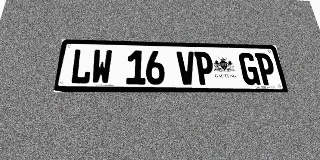1: (126, 50, 145, 85)
6: (146, 50, 165, 85)
G: (238, 53, 261, 85)
L: (69, 49, 93, 84)
P: (254, 53, 278, 85), (194, 52, 215, 85)
V: (176, 51, 197, 85)
W: (90, 49, 112, 84)
